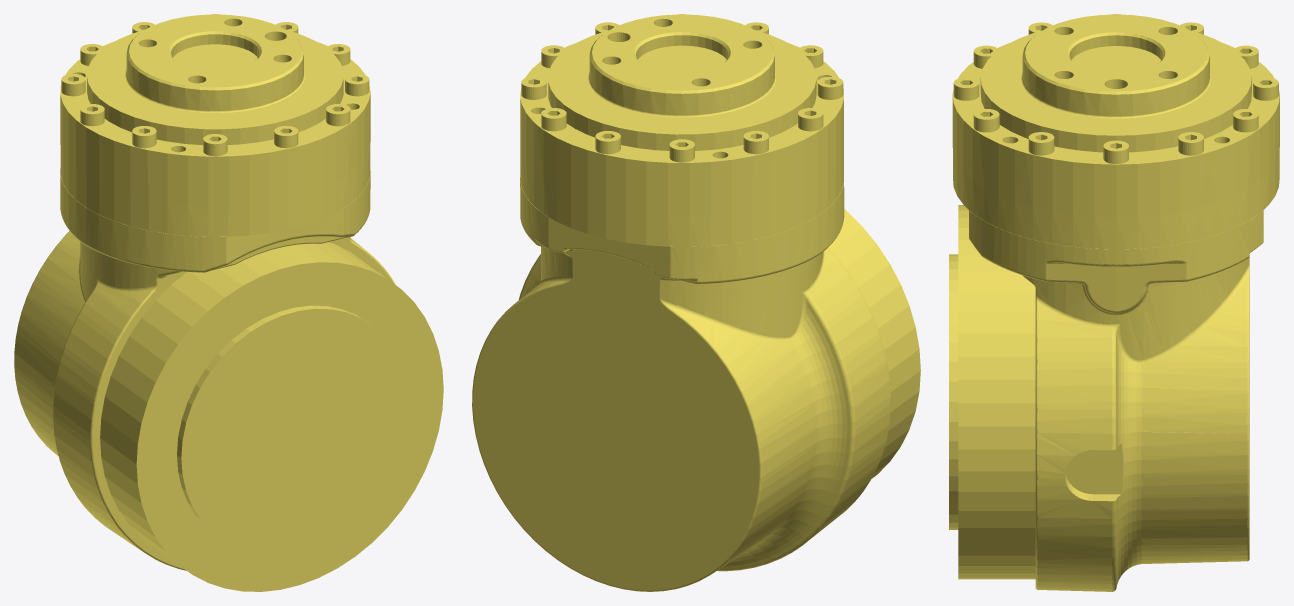
Rendered from FanucLRMate200iCLink5.dae.
3 views of the same model, side by side, from view 1: azimuth 30°, elevation 25°; view 2: azimuth 150°, elevation 25°; view 3: azimuth 270°, elevation 25° (orthographic). The views are drawn at different scales.
Visible parts, largest first — view 1: Fanuc200iDLink5; view 2: Fanuc200iDLink5; view 3: Fanuc200iDLink5.
Boxes of the visible parts, x1,y1,x2,y2 form: Fanuc200iDLink5: (14, 14, 443, 591); Fanuc200iDLink5: (472, 14, 920, 591); Fanuc200iDLink5: (949, 14, 1279, 591).
Bounding box in the file's own units: 0.0852 × 0.0707 × 0.1227.
